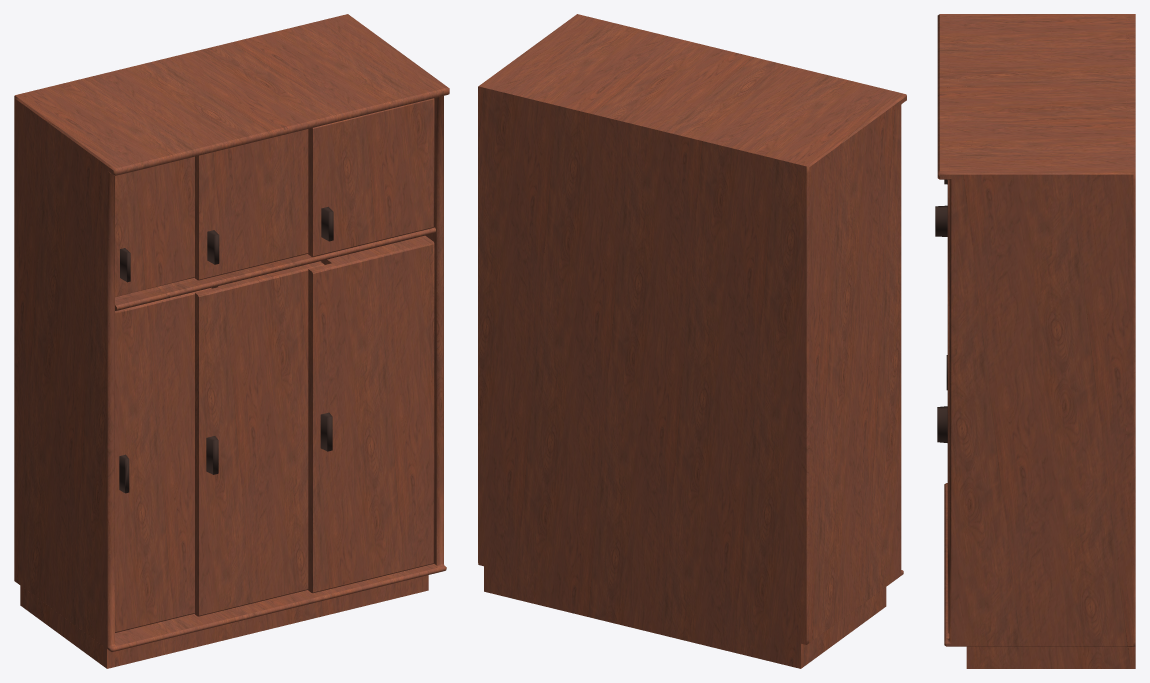
The model's file is wardrobe.glb.
3 views of the same model, side by side, from view 1: azimuth 30°, elevation 25°; view 2: azimuth 150°, elevation 25°; view 3: azimuth 270°, elevation 25° (orthographic). The views are drawn at different scales.
Parts seen in each view (by area): view 1: Wardrobe; view 2: Wardrobe; view 3: Wardrobe.
Part boxes in pixels (x1,y1,x2,y2): Wardrobe: (14, 14, 449, 668); Wardrobe: (478, 14, 906, 668); Wardrobe: (935, 14, 1135, 668).
Size of the model in its own units: 1.64 by 2.39 by 0.8695.
2 materials, 1 textured.
